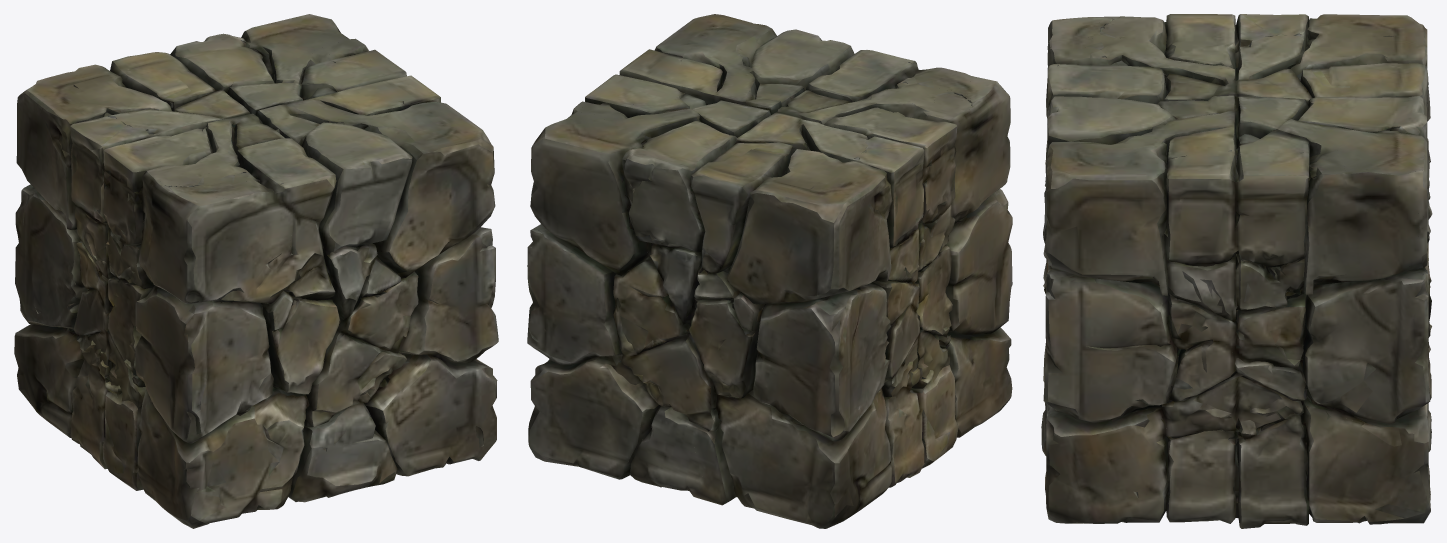
Rendered from obj_crack_slab_parts.glb.
3 renders of one model, left to right at view 1: azimuth 30°, elevation 25°; view 2: azimuth 150°, elevation 25°; view 3: azimuth 270°, elevation 25°, orthographic. The views are drawn at different scales.
Size of the model in its own units: 0.5 by 0.5017 by 0.4983.
Materials: 1 (1 with a texture image).
